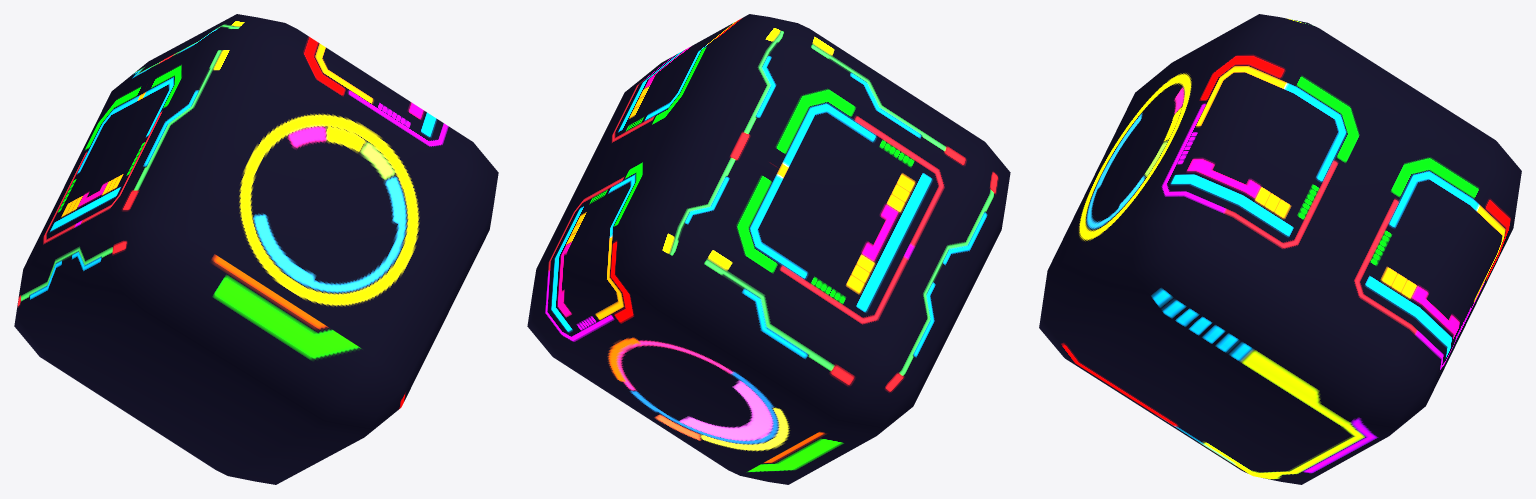
File: air_cube_fx_ii.glb
3 renders of one model, left to right at view 1: azimuth 30°, elevation 25°; view 2: azimuth 150°, elevation 25°; view 3: azimuth 270°, elevation 25°, orthographic.
Visible parts, largest first — view 1: Cube_Halo; view 2: Cube_Halo; view 3: Cube_Halo.
Boxes of the visible parts, x1,y1,x2,y2 form: Cube_Halo: [14, 14, 498, 484]; Cube_Halo: [527, 14, 1010, 484]; Cube_Halo: [1039, 14, 1521, 484].
Size of the model in its own units: 10.01 by 11.56 by 10.88.
Materials: 1 (1 with a texture image).
